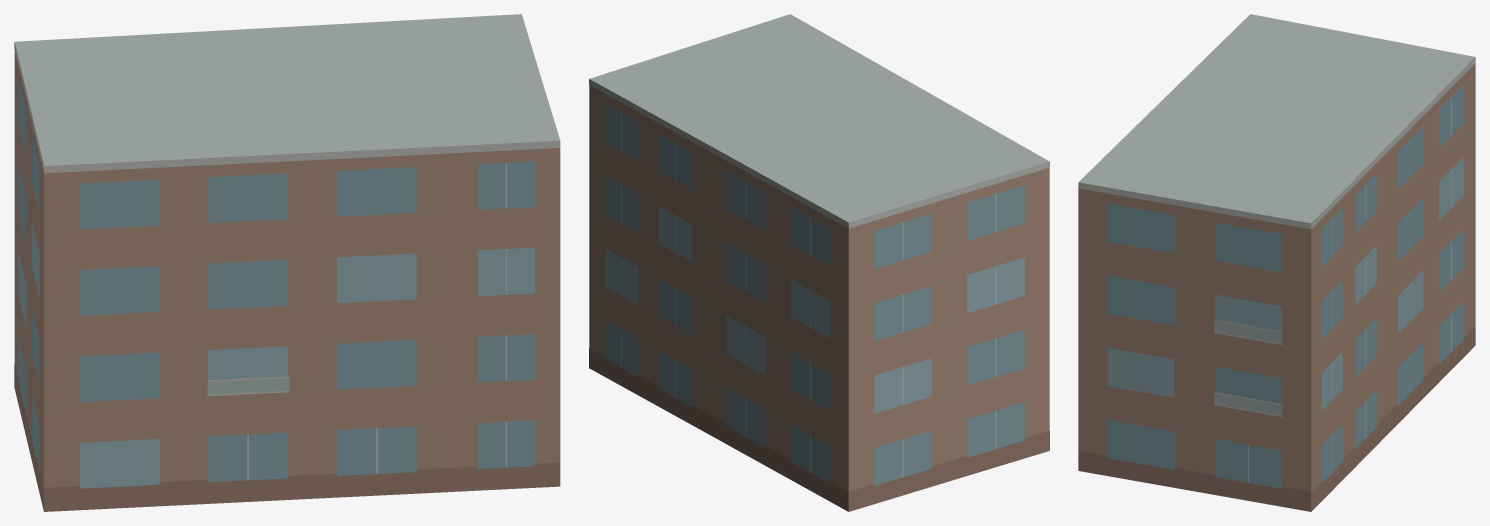
Rendered from survey-upis-32493102.glb.
3 views of the same model, side by side, from view 1: azimuth 30°, elevation 25°; view 2: azimuth 150°, elevation 25°; view 3: azimuth 270°, elevation 25° (orthographic). The views are drawn at different scales.
Parts seen in each view (by area): view 1: survey-upis-32493102.tmp; view 2: survey-upis-32493102.tmp; view 3: survey-upis-32493102.tmp.
Boxes of the visible parts, box(x1,y1,x2,y2) form: survey-upis-32493102.tmp: box(14, 14, 560, 511); survey-upis-32493102.tmp: box(589, 14, 1049, 511); survey-upis-32493102.tmp: box(1078, 14, 1475, 511).
Size of the model in its own units: 18.22 by 11.7 by 14.61.
